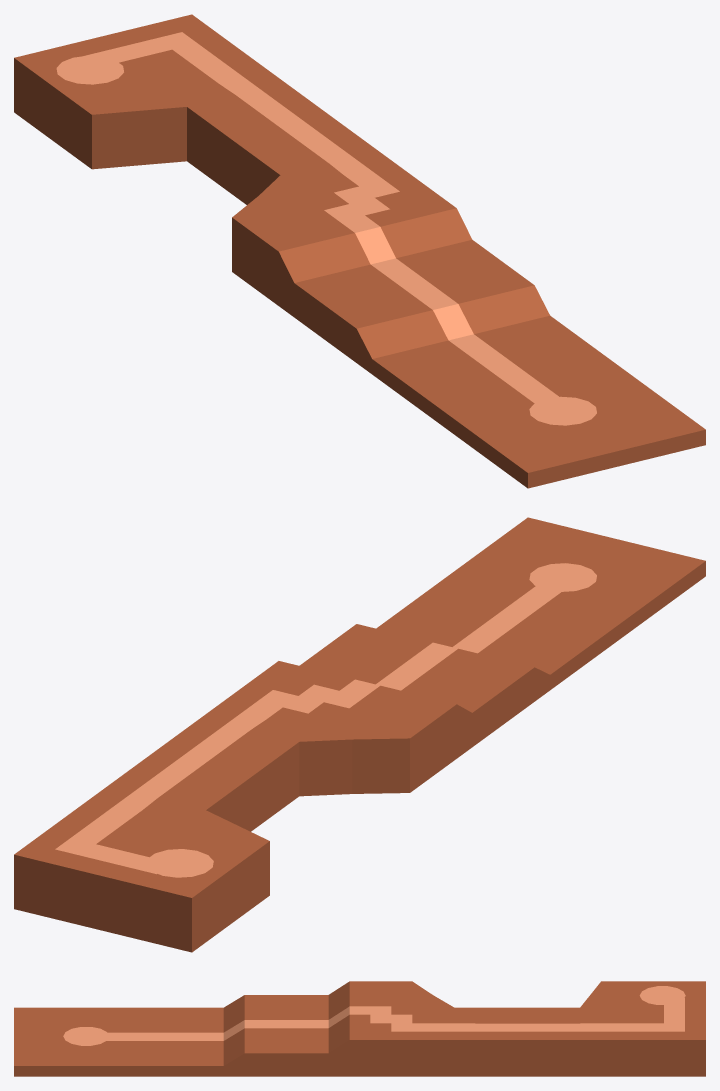
File: Level_0.fbx
3 views of the same model, one above another, from view 1: azimuth 30°, elevation 25°; view 2: azimuth 150°, elevation 25°; view 3: azimuth 270°, elevation 25° (orthographic). The views are drawn at different scales.
Visible parts, largest first — view 1: Circle; view 2: Circle; view 3: Circle.
Boxes of the visible parts, box(x1,y1,x2,y2) form: Circle: box(14, 14, 705, 488); Circle: box(14, 517, 705, 952); Circle: box(14, 981, 705, 1076).
Bounding box in the file's own units: 600 × 177 × 3000.
